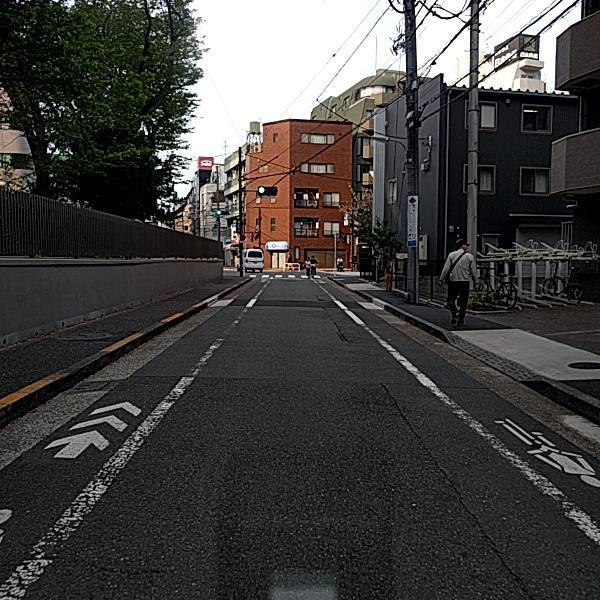D00: (317, 296, 348, 342)
D10: (86, 558, 173, 583)
D44: (0, 304, 242, 599), (339, 314, 558, 509)
